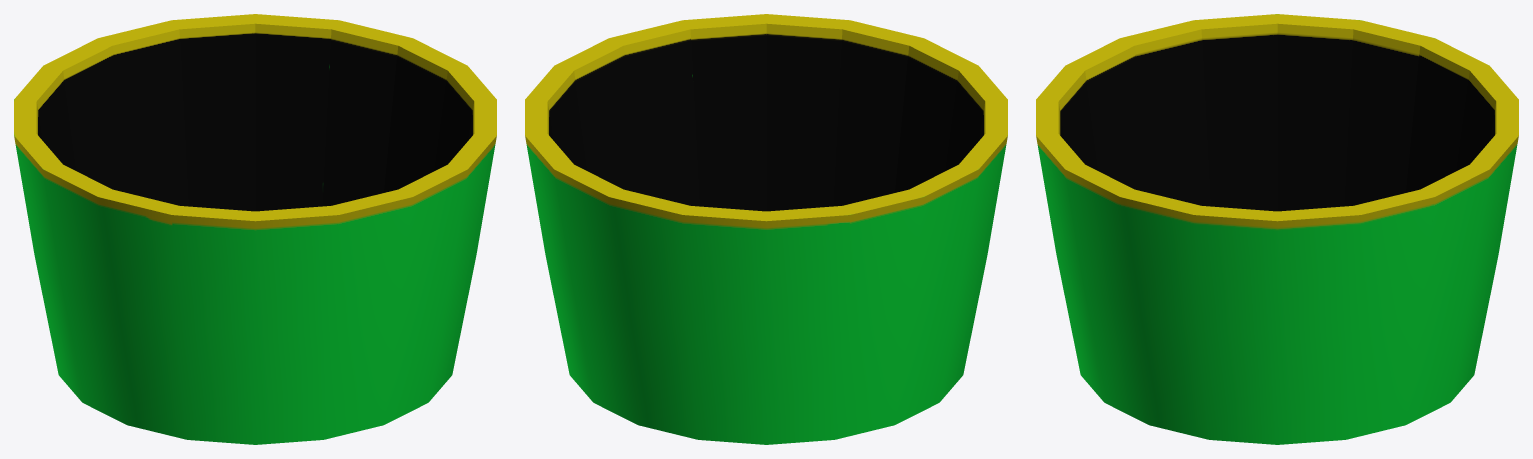
The model's file is DustBox.FBX.
3 renders of one model, left to right at view 1: azimuth 30°, elevation 25°; view 2: azimuth 150°, elevation 25°; view 3: azimuth 270°, elevation 25°, orthographic.
Visible parts, largest first — view 1: Cylinder001; view 2: Cylinder001; view 3: Cylinder001.
Boxes of the visible parts, x1,y1,x2,y2 form: Cylinder001: (14, 14, 496, 444); Cylinder001: (525, 14, 1007, 444); Cylinder001: (1036, 14, 1518, 444).
Size of the model in its own units: 128 by 126 by 70.
1 material, 1 textured.
